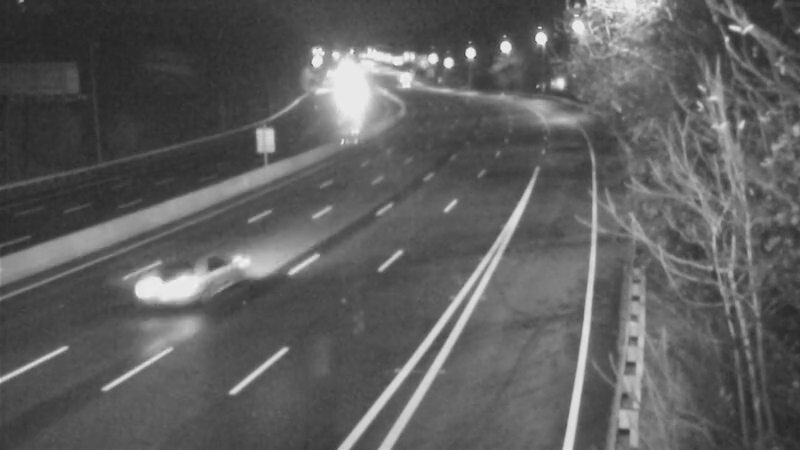vehicle: (130, 251, 210, 331)
